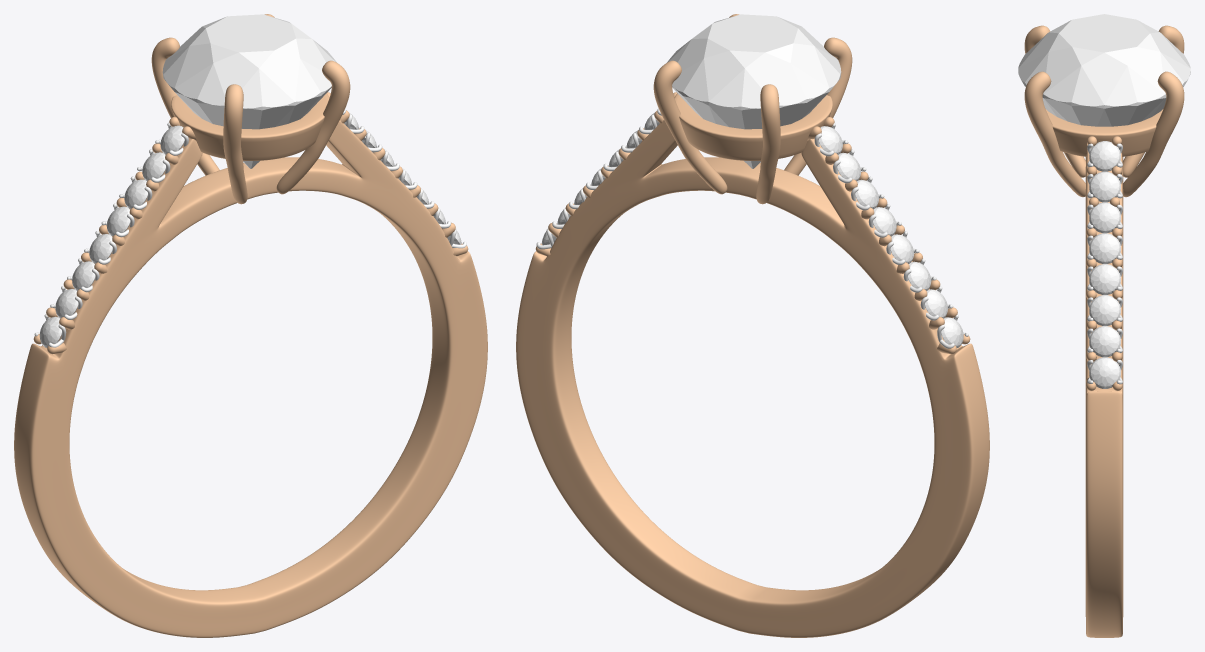
Rendered from Diamond+ring.glb.
3 renders of one model, left to right at view 1: azimuth 30°, elevation 25°; view 2: azimuth 150°, elevation 25°; view 3: azimuth 270°, elevation 25°, orthographic. The views are drawn at different scales.
Parts seen in each view (by area): view 1: Ring, Diamond, GEMS; view 2: Ring, Diamond, GEMS; view 3: Ring, Diamond, GEMS.
Boxes of the visible parts, x1,y1,x2,y2 form: Ring: (14, 14, 487, 637); Diamond: (162, 14, 336, 168); GEMS: (39, 112, 461, 347); Ring: (516, 14, 989, 637); Diamond: (667, 14, 841, 168); GEMS: (541, 112, 963, 347); Ring: (1024, 25, 1184, 637); Diamond: (1018, 14, 1190, 126); GEMS: (1089, 141, 1120, 388).
Bounding box in the file's own units: 1.38 × 1.71 × 0.4605.
